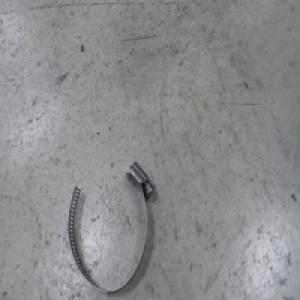AdjustableClamp: (68, 160, 155, 292)
